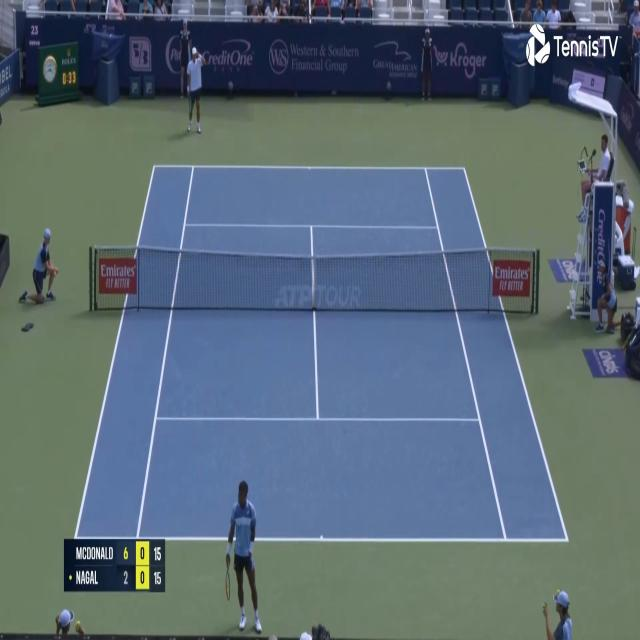tennis-player: (224, 477, 262, 638), (184, 42, 206, 136)
